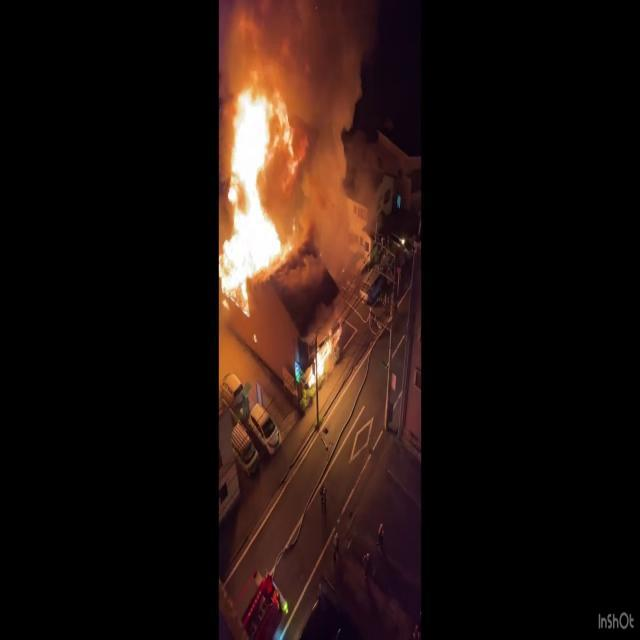Fire: (219, 69, 299, 308), (302, 324, 338, 400)
Smoke: (282, 0, 382, 262)
